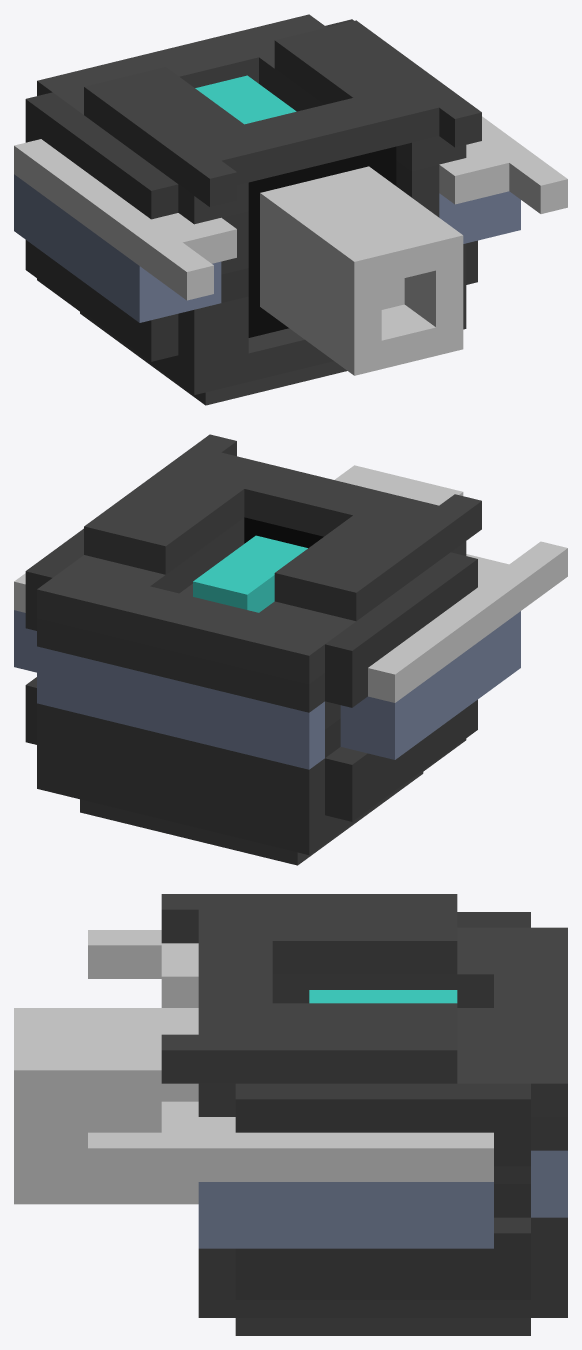
The model's file is tank_turret_big.obj.
3 views of the same model, one above another, from view 1: azimuth 30°, elevation 25°; view 2: azimuth 150°, elevation 25°; view 3: azimuth 270°, elevation 25° (orthographic). The views are drawn at different scales.
Size of the model in its own units: 1.4 by 0.9 by 1.5.
1 material, 1 textured.
